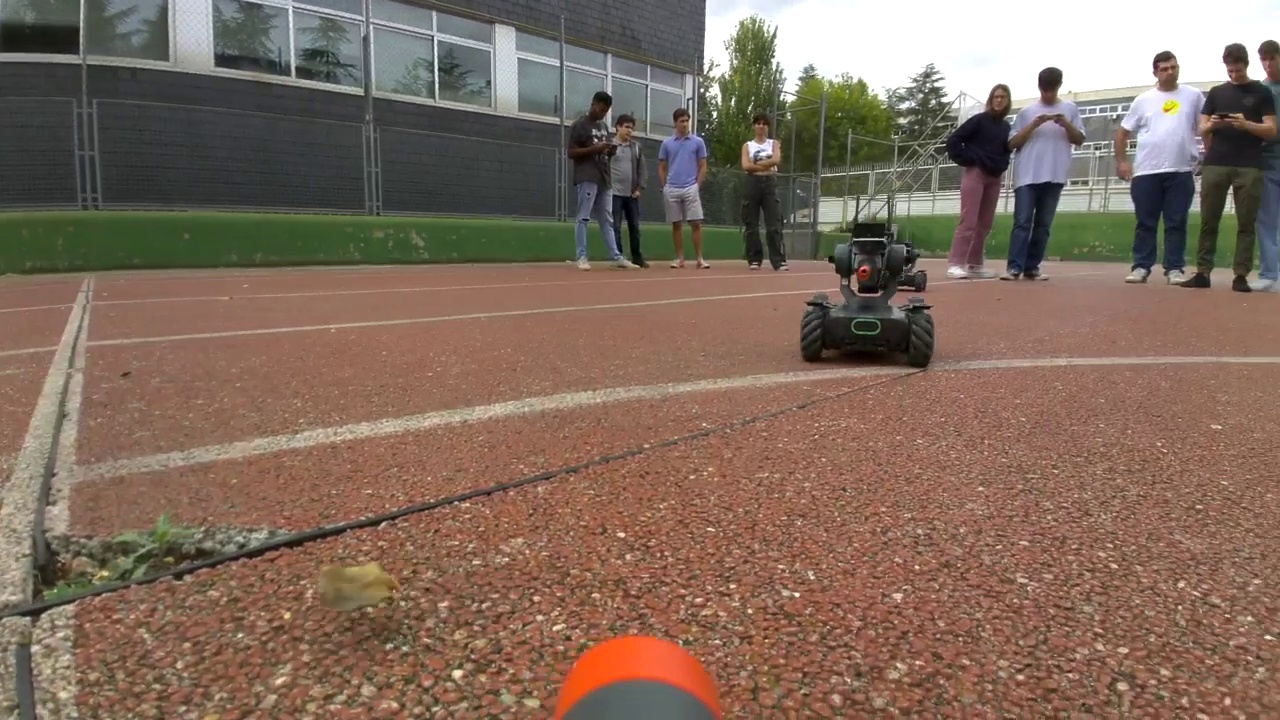robot: (801, 224, 933, 368)
